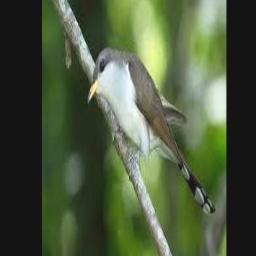Cuckoo: (87, 47, 215, 216)
